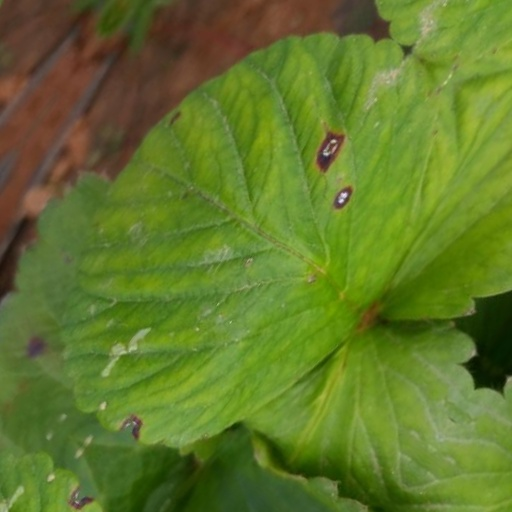Leaf Spot: (129, 0, 416, 484), (179, 281, 459, 511)
